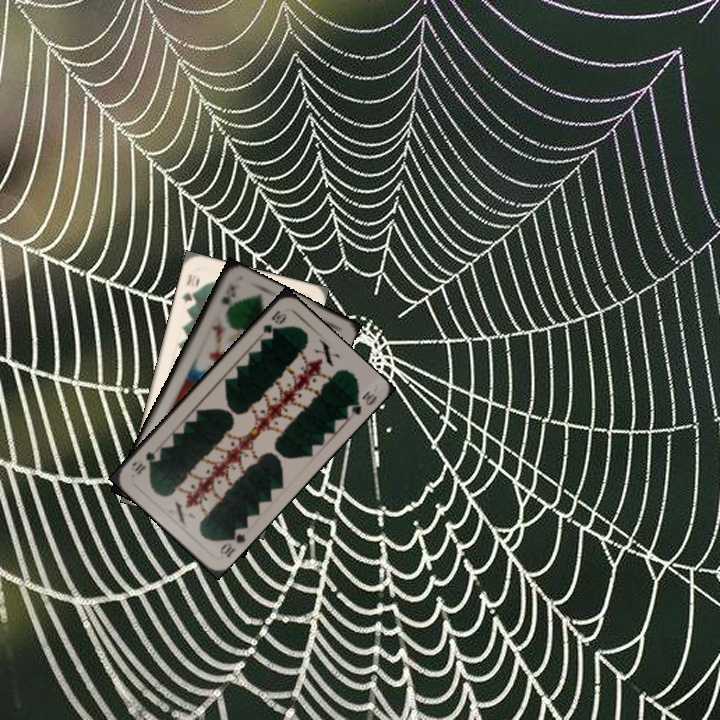G10: (256, 306, 289, 342), (216, 524, 248, 560), (178, 270, 199, 305)
GK: (217, 282, 237, 307)
